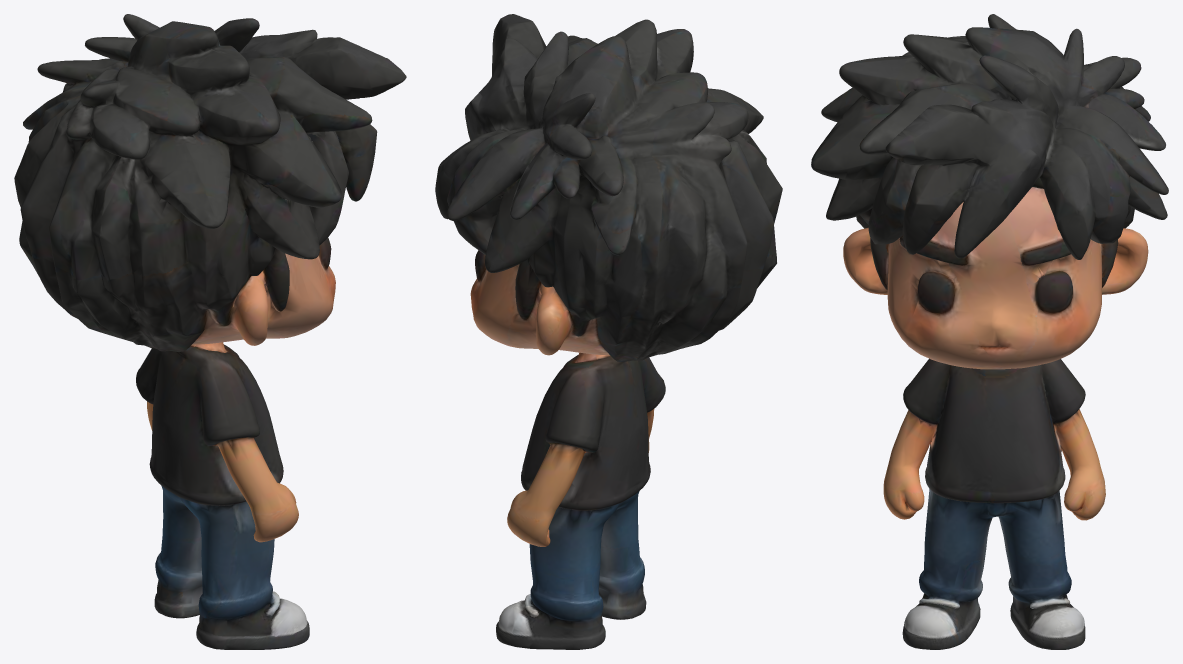
The model's file is char_oscar-web.glb.
3 views of the same model, side by side, from view 1: azimuth 30°, elevation 25°; view 2: azimuth 150°, elevation 25°; view 3: azimuth 270°, elevation 25° (orthographic). The views are drawn at different scales.
Visible parts, largest first — view 1: tripo_node_eb570cfb-648b-4840-805a-600deac67e0b; view 2: tripo_node_eb570cfb-648b-4840-805a-600deac67e0b; view 3: tripo_node_eb570cfb-648b-4840-805a-600deac67e0b.
Boxes of the visible parts, bbox=[...] form: tripo_node_eb570cfb-648b-4840-805a-600deac67e0b: bbox=[14, 14, 406, 649]; tripo_node_eb570cfb-648b-4840-805a-600deac67e0b: bbox=[435, 14, 782, 649]; tripo_node_eb570cfb-648b-4840-805a-600deac67e0b: bbox=[811, 14, 1168, 649].
Bounding box in the file's own units: 0.5522 × 0.9998 × 0.5521.
Materials: 1 (1 with a texture image).
